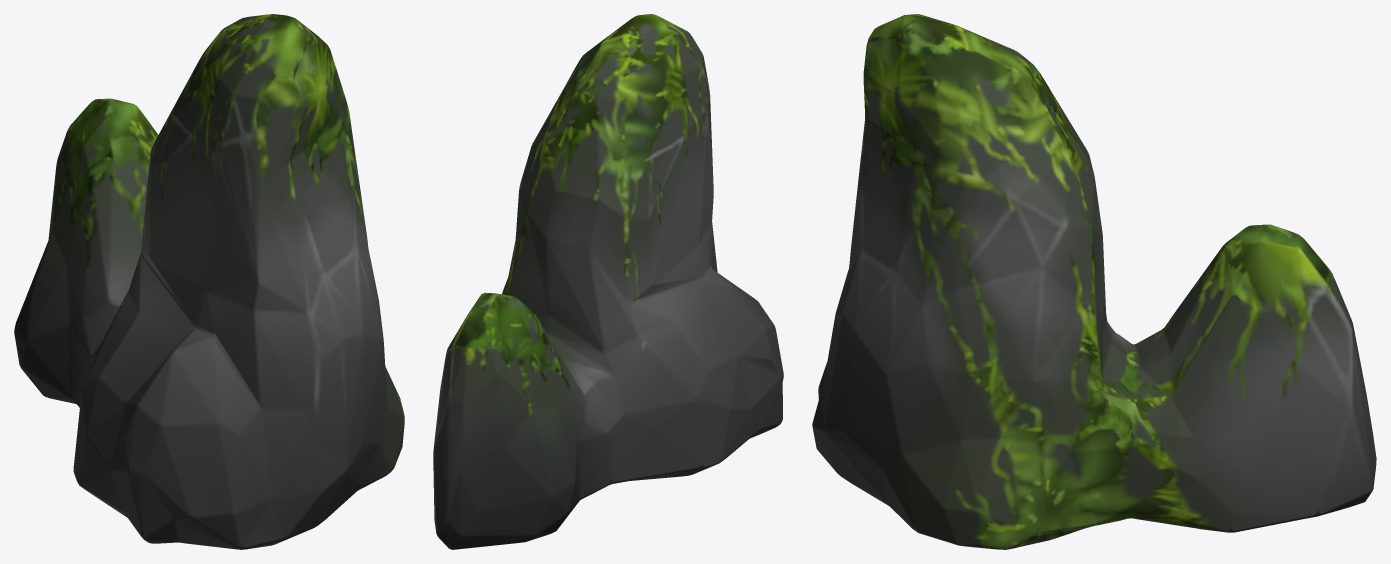
Rendered from ROCK_MESH_02.fbx.
The picture shows the model from 3 angles, left to right: view 1: azimuth 30°, elevation 25°; view 2: azimuth 150°, elevation 25°; view 3: azimuth 270°, elevation 25°; orthographic projection. The views are drawn at different scales.
Parts seen in each view (by area): view 1: defaultMaterial.002; view 2: defaultMaterial.002; view 3: defaultMaterial.002.
Part boxes in pixels (bbox=[...]): defaultMaterial.002: bbox=[14, 14, 404, 549]; defaultMaterial.002: bbox=[433, 14, 783, 549]; defaultMaterial.002: bbox=[812, 14, 1376, 549].
Bounding box in the file's own units: 1790 × 2773 × 2917.
